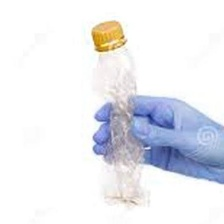bottle: (86, 18, 153, 211)
